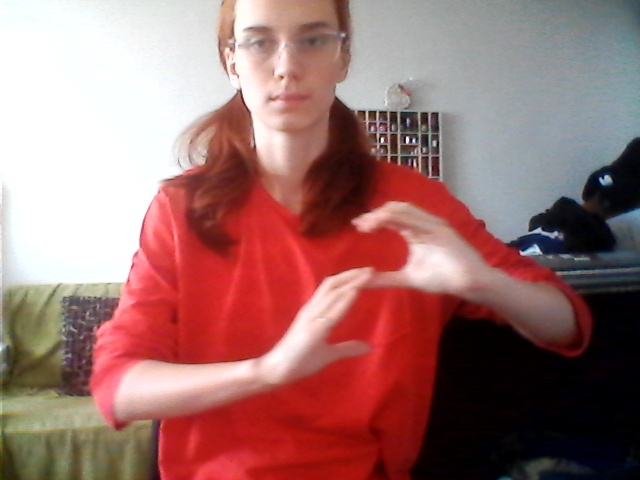s: (288, 186, 476, 393)
